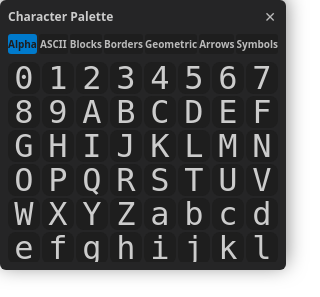
Test: CharPaletteModal › should switch active tab and displayed chars on tab click
Click the button with test id "char-tab-blocks".
click(86, 44)  # box x1=70 y1=34 x2=102 y2=54
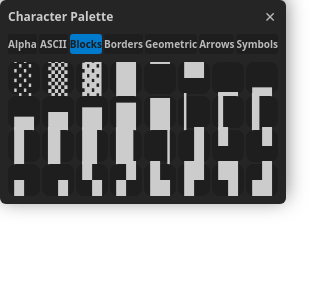
Check: the number of buttons with test id "char-cell" is 32
